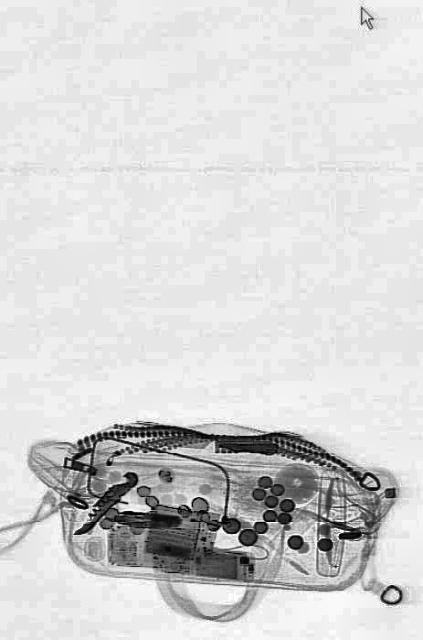Knife: (70, 462, 138, 544)
